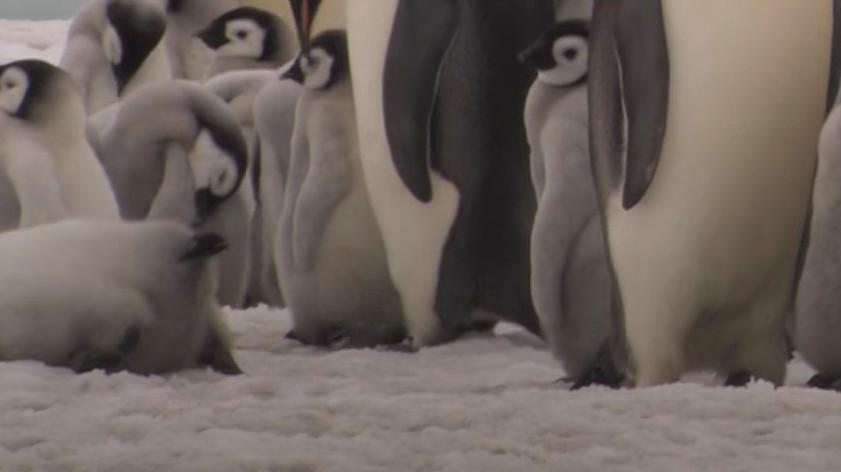Emperor Penguin: (584, 0, 832, 390), (273, 0, 531, 336), (784, 0, 841, 72), (176, 0, 372, 18)
